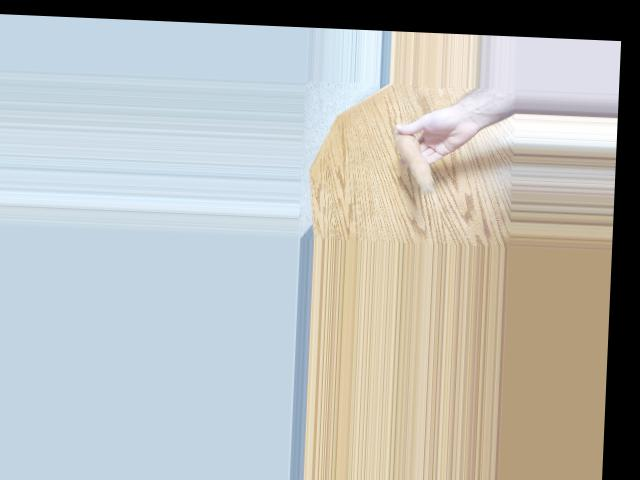sweet_potato: (390, 120, 443, 196)
